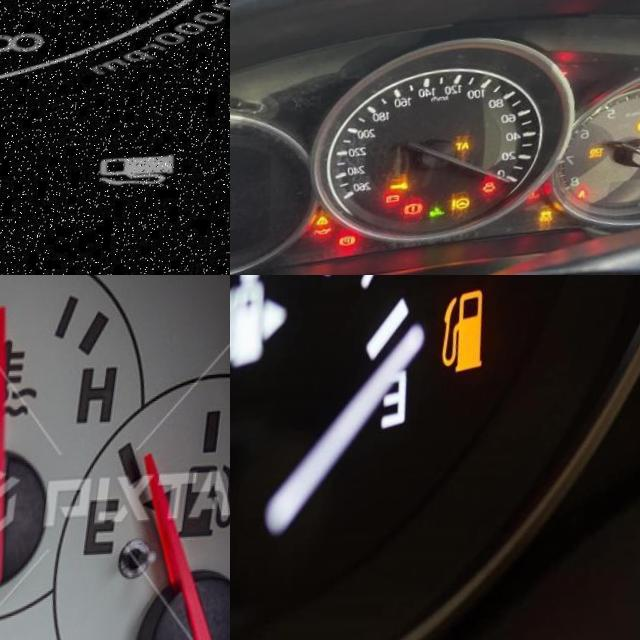Electronic Power Steering: (458, 201, 479, 215)
High Engine Coolant Temperature: (537, 195, 547, 205)
Seat Belt: (585, 195, 596, 207)
